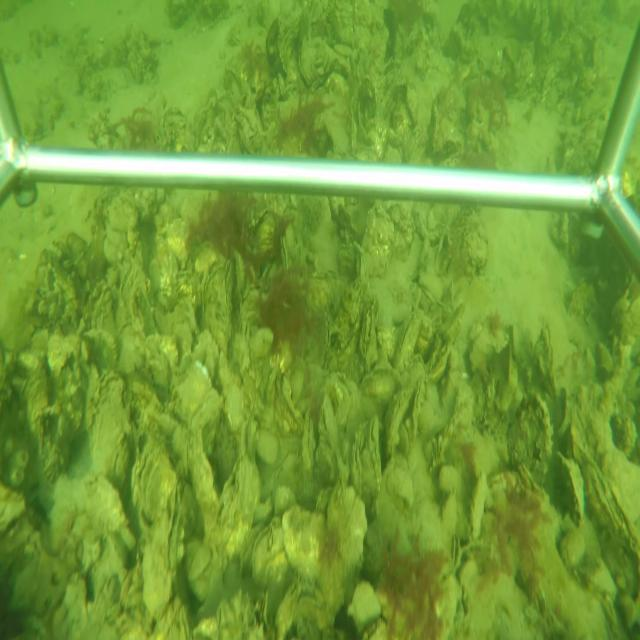Oyster-Closed: (208, 452, 258, 566), (582, 457, 637, 551), (250, 515, 289, 586), (555, 450, 585, 528), (394, 310, 423, 374), (384, 385, 409, 457), (359, 304, 376, 372), (319, 394, 340, 449), (300, 411, 316, 477), (410, 375, 425, 440), (369, 413, 382, 487), (272, 450, 297, 485), (353, 428, 363, 488), (556, 388, 569, 432), (281, 235, 289, 272)
Oyster-Indeterminate: (140, 464, 184, 621), (88, 369, 129, 475), (279, 503, 326, 580), (201, 256, 234, 356), (265, 16, 278, 64)
Oyster-Open: (448, 529, 463, 573)
